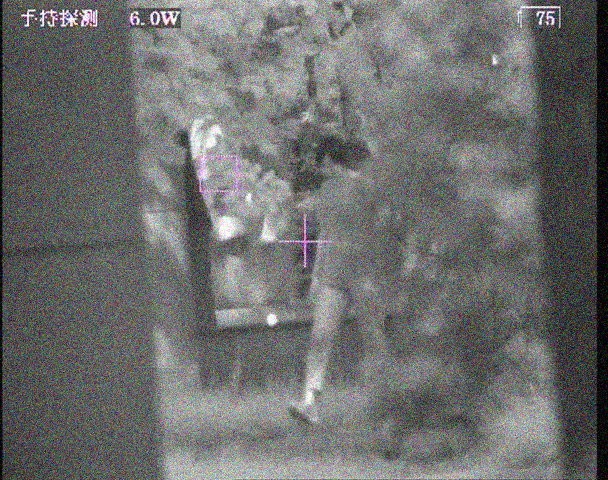my: (265, 312, 280, 326)
